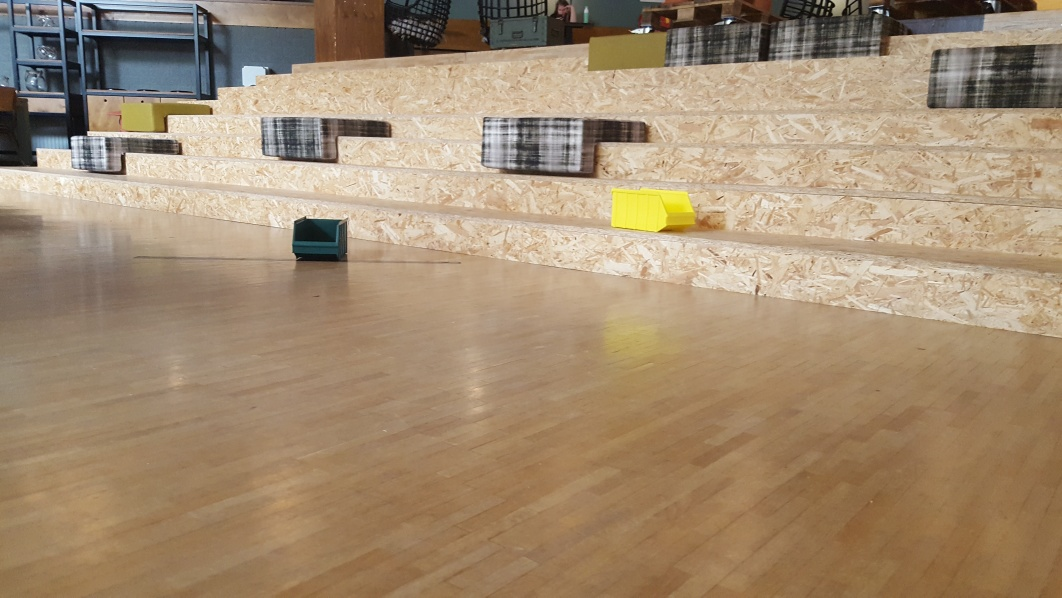tray: (609, 187, 696, 234), (290, 215, 350, 262)
